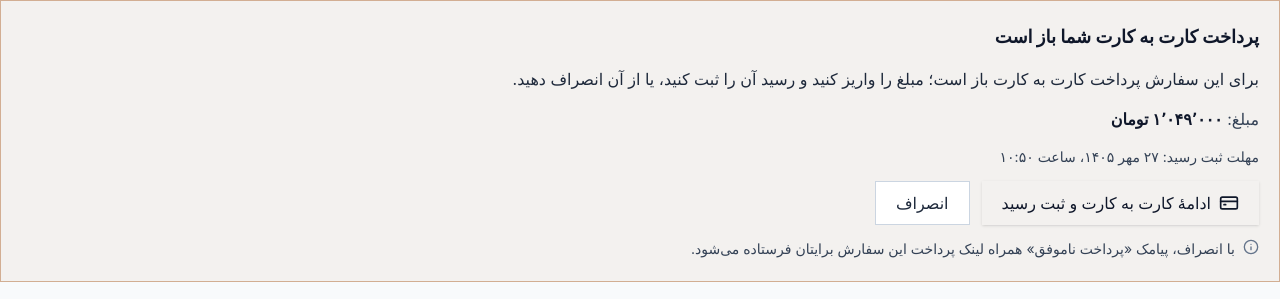
Test: a cancellation the server refuses › payment_under_review: the receipt is said to be under review
This screenshot has width=1280, height=299.
Click the button "انصراف": (922,203) [875,181,970,225]
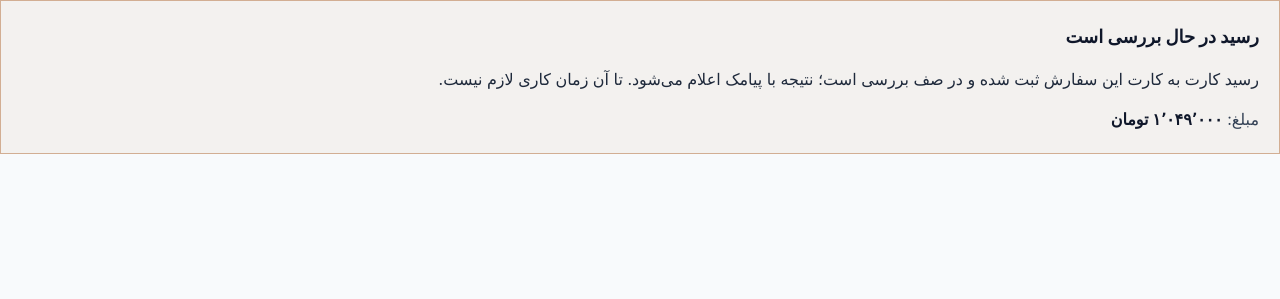
Expected: the element named "پرداخت" shows "رسید در حال بررسی است", [1065,26,1259,47]
Expected: the text "انصراف" is gone
